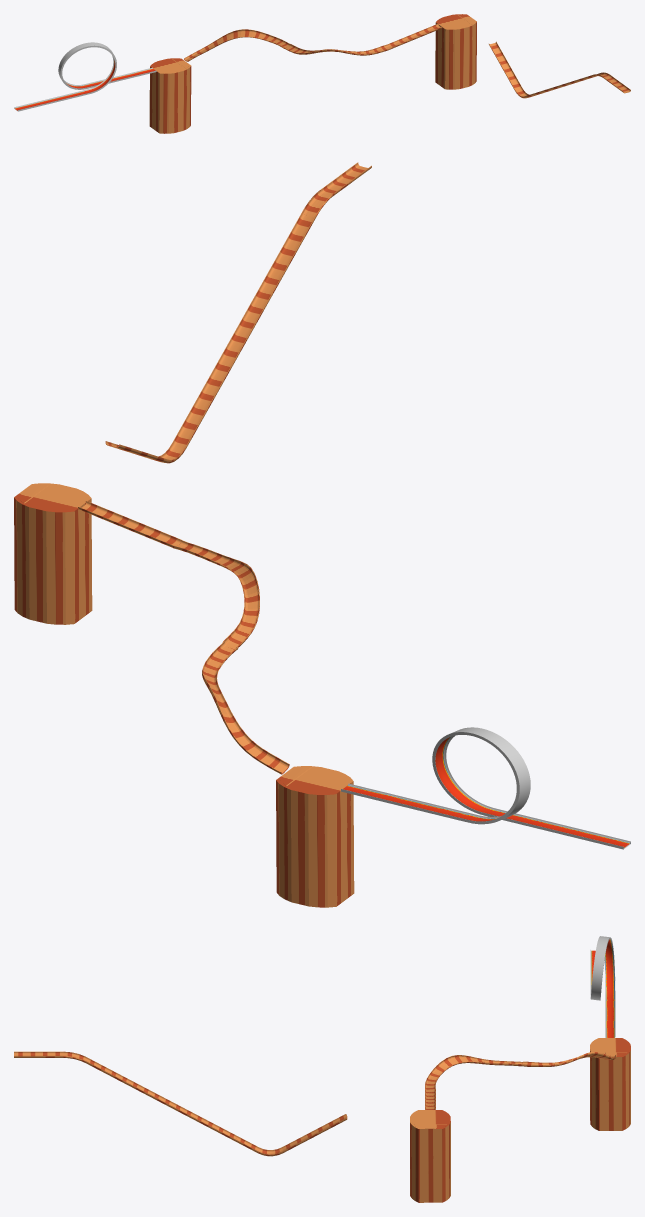
Rendered from level 1.fbx.
The picture shows the model from 3 angles, top to bottom: view 1: azimuth 30°, elevation 25°; view 2: azimuth 150°, elevation 25°; view 3: azimuth 270°, elevation 25°; orthographic projection. The views are drawn at different scales.
Parts seen in each view (by area): view 1: PlatformCP_01.001, PlatformCP_01, Box002, S145.000, S145.002; view 2: PlatformCP_01.001, PlatformCP_01, Box002, S145.002, S145.000; view 3: PlatformCP_01, PlatformCP_01.001, Box002, S145.002, S145.000.
Part boxes in pixels (x1,y1,x2,y2): PlatformCP_01.001: (149, 58, 191, 133); PlatformCP_01: (435, 14, 476, 89); Box002: (14, 42, 156, 111); S145.000: (184, 29, 290, 61); S145.002: (283, 44, 392, 55); PlatformCP_01.001: (276, 766, 354, 907); PlatformCP_01: (14, 483, 92, 624); Box002: (341, 727, 630, 849); S145.002: (172, 540, 259, 649); S145.000: (202, 641, 289, 774); PlatformCP_01: (410, 1110, 450, 1202); PlatformCP_01.001: (590, 1038, 630, 1130); Box002: (590, 936, 615, 1037); S145.002: (425, 1055, 522, 1091); S145.000: (522, 1052, 616, 1066).
Size of the model in its own units: 63888 by 25018 by 71024.
